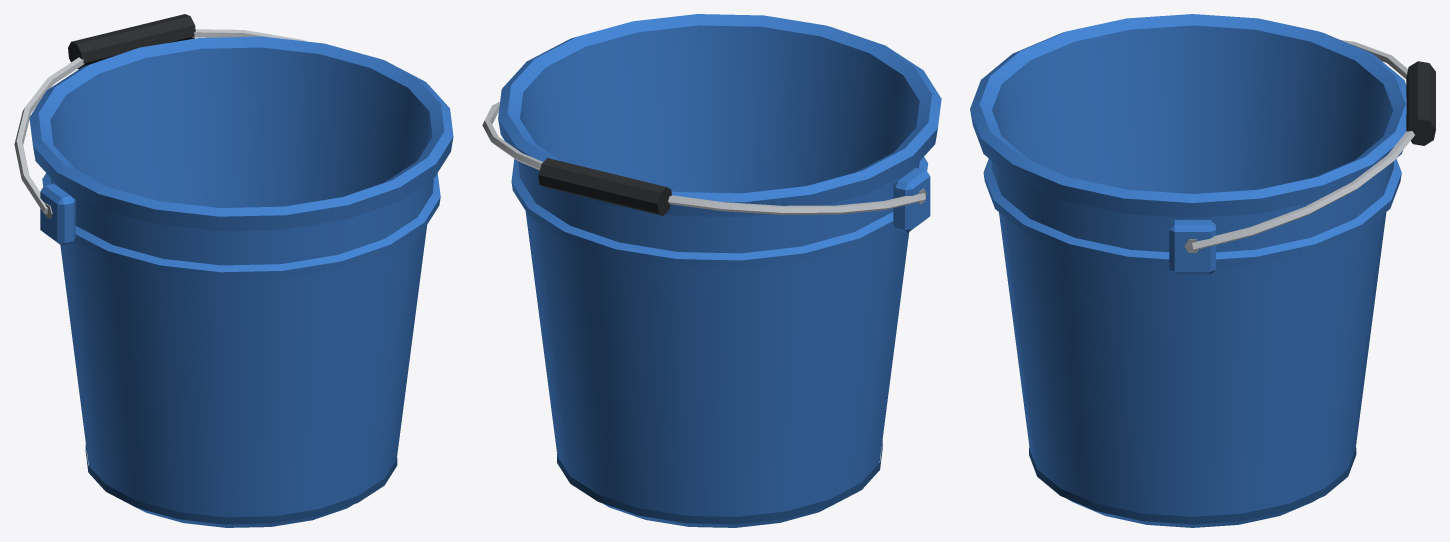
Rendered from SC_Home_Bucket_Plastic.gltf.
The picture shows the model from 3 angles, left to right: view 1: azimuth 30°, elevation 25°; view 2: azimuth 150°, elevation 25°; view 3: azimuth 270°, elevation 25°; orthographic projection. The views are drawn at different scales.
Parts seen in each view (by area): view 1: SC_Home_Bucket_Plastic; view 2: SC_Home_Bucket_Plastic; view 3: SC_Home_Bucket_Plastic.
Boxes of the visible parts, x1,y1,x2,y2 form: SC_Home_Bucket_Plastic: (14,14,453,527); SC_Home_Bucket_Plastic: (482,14,941,527); SC_Home_Bucket_Plastic: (970,14,1435,527).
Size of the model in its own units: 0.3466 by 0.3011 by 0.339.
1 material, 1 textured.
